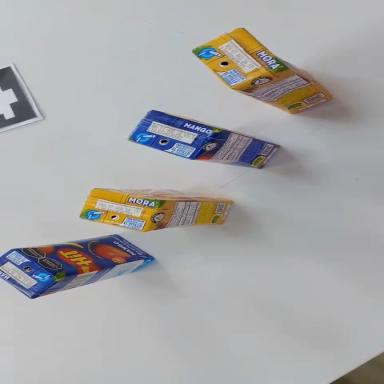HIT-MANGO: (0, 227, 157, 303), (128, 106, 280, 182)
HIT-MORA: (188, 12, 335, 140), (80, 188, 233, 235)
cara_F: (13, 219, 154, 287)
